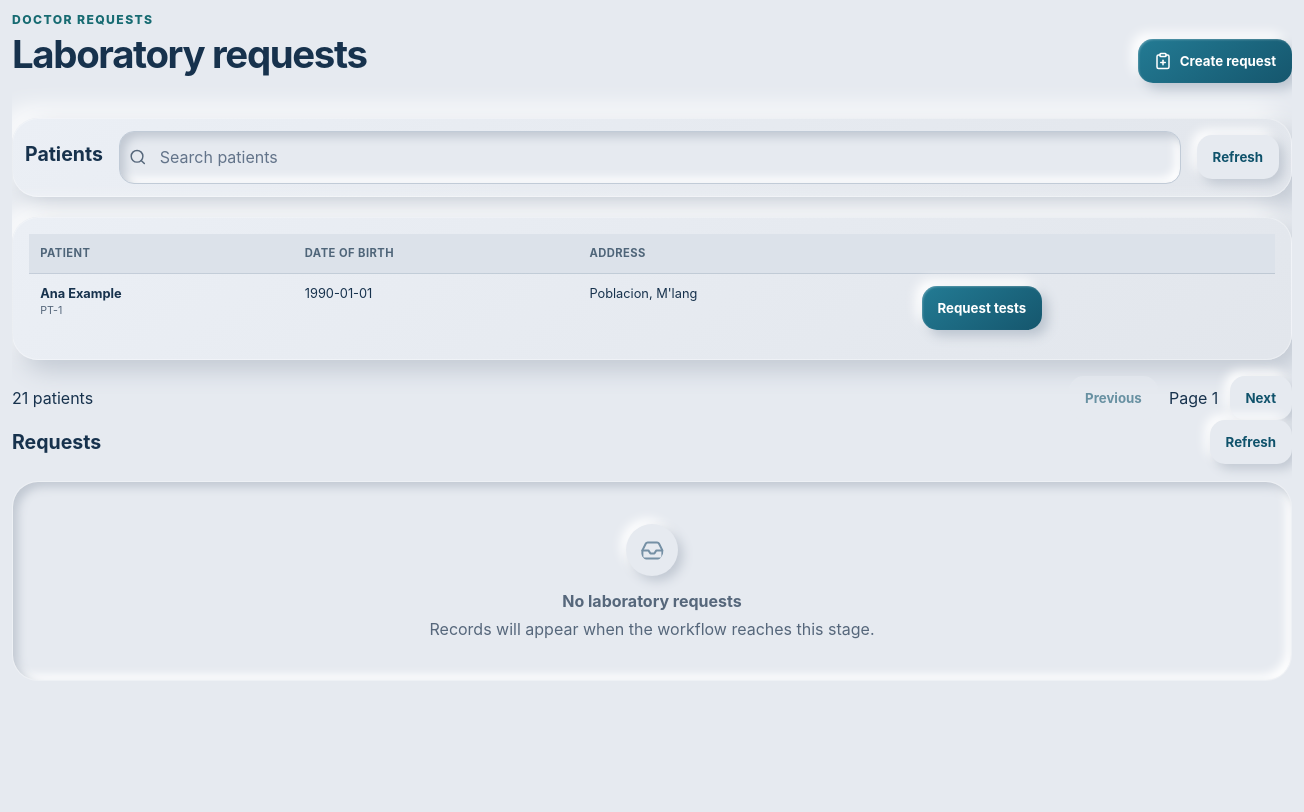
patient-based laboratory requests › searches across pages and discards stale search responses
The width and height of the screenshot is (1304, 812).
Expected: the text "Ana Example" is shown, [40,286,122,301]
Click the button "Next": [1261, 398] box [1230,376,1292,420]
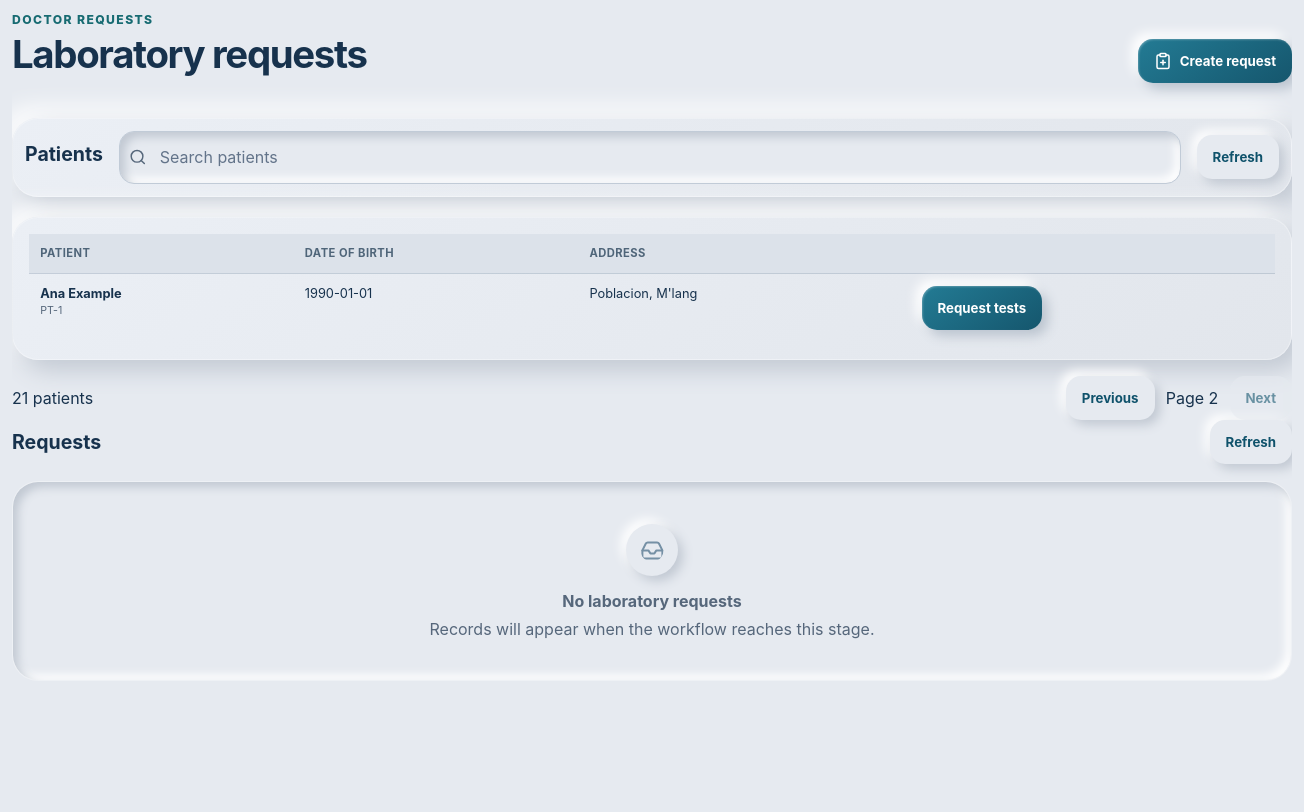
In the field labelled "Search patients": [663, 157] box [157,134,1170,180], type "Old"
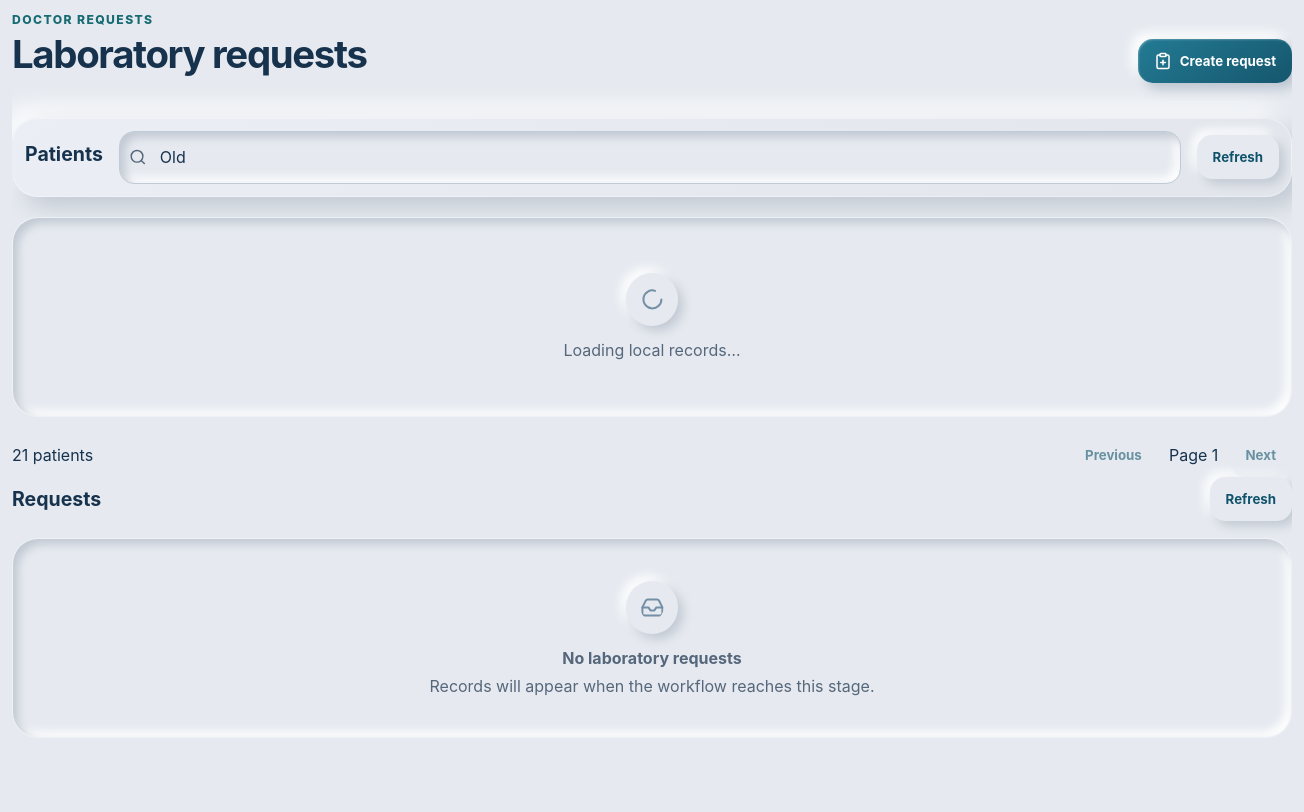
Replace the text in the field named "Search patients" with "New": [663, 157] box [157,134,1170,180]
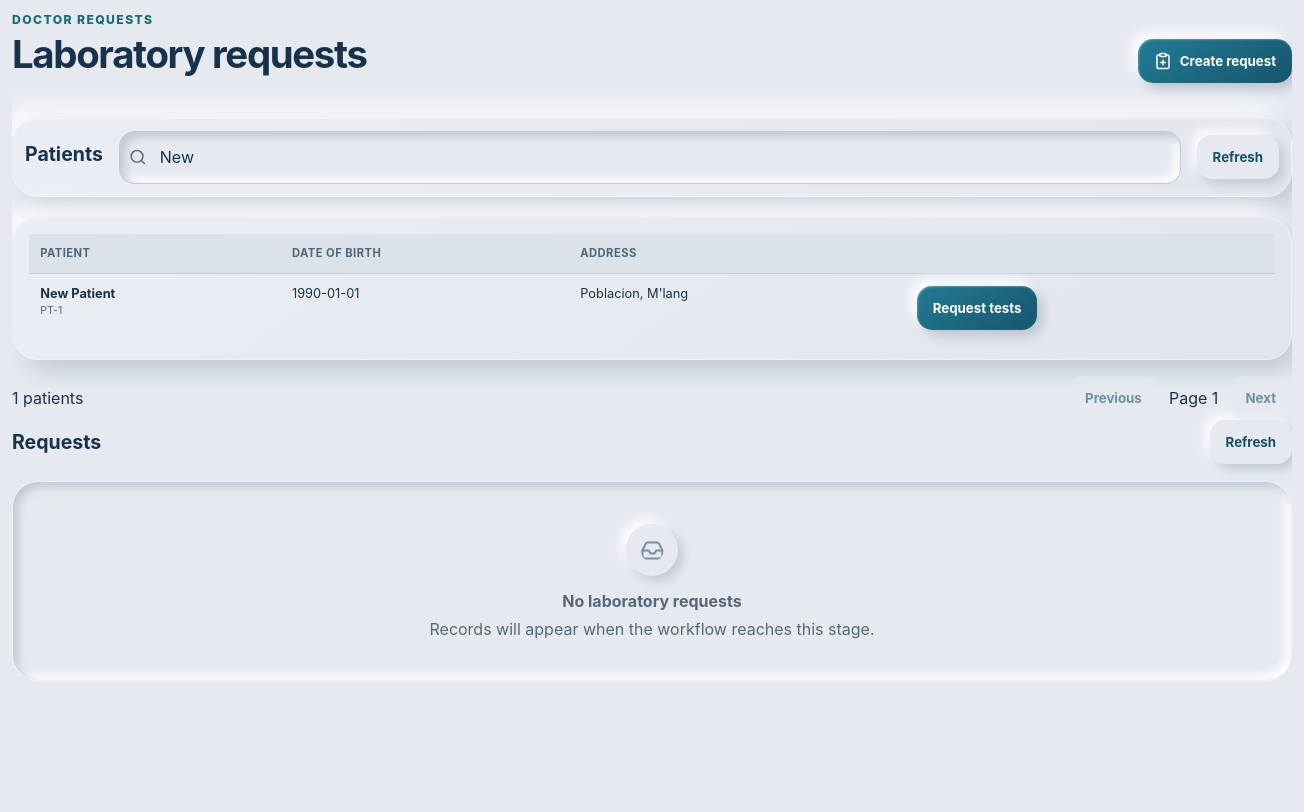
Result: the text "New Patient" is shown at [40,286,115,301]
